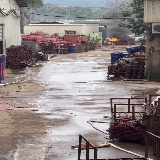fire: (108, 38, 118, 41)
